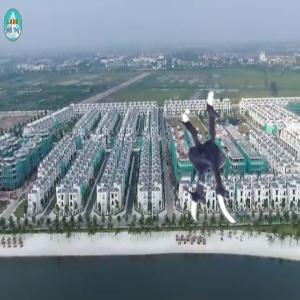drone: (155, 95, 288, 228)
